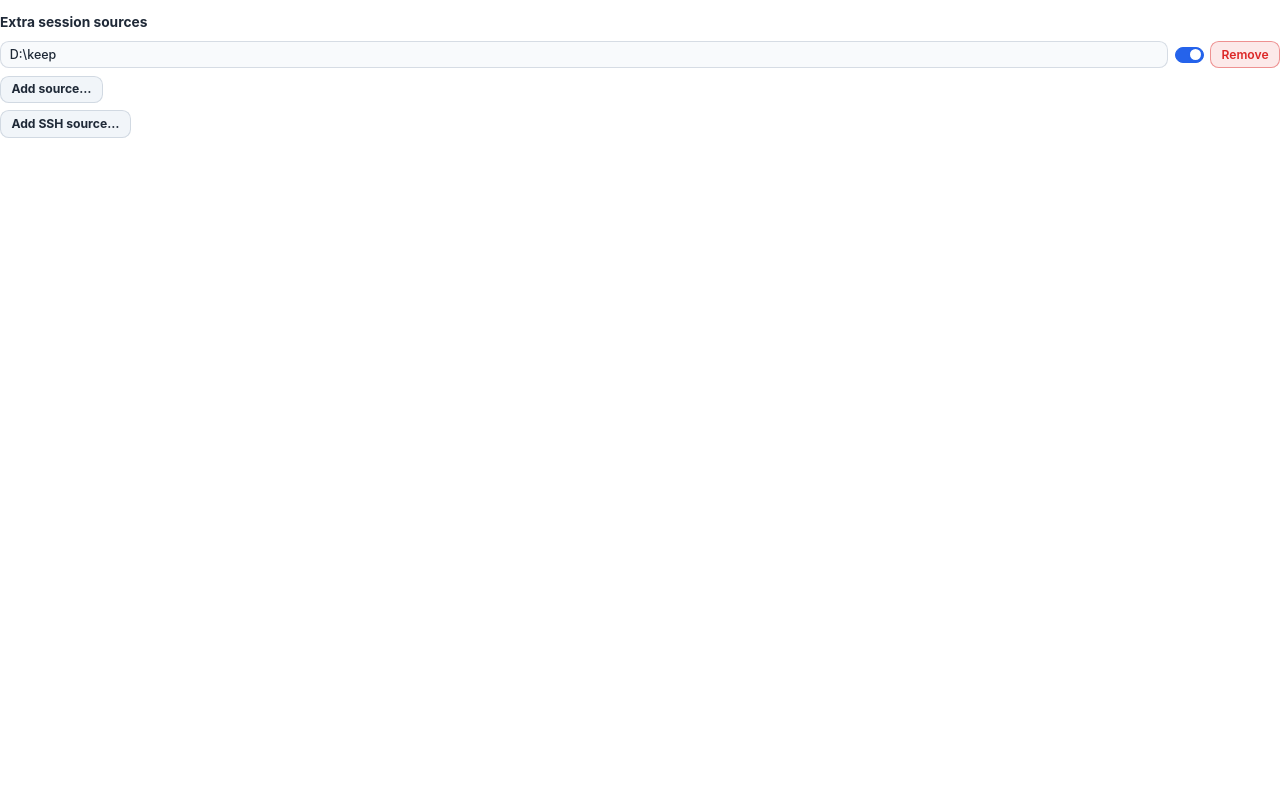
Test: SourcesEditor › keeps the row when the removal is cancelled
The image size is (1280, 800).
Click the button with aria-label "Remove source 1": (1245, 55) [1210, 41, 1279, 68]
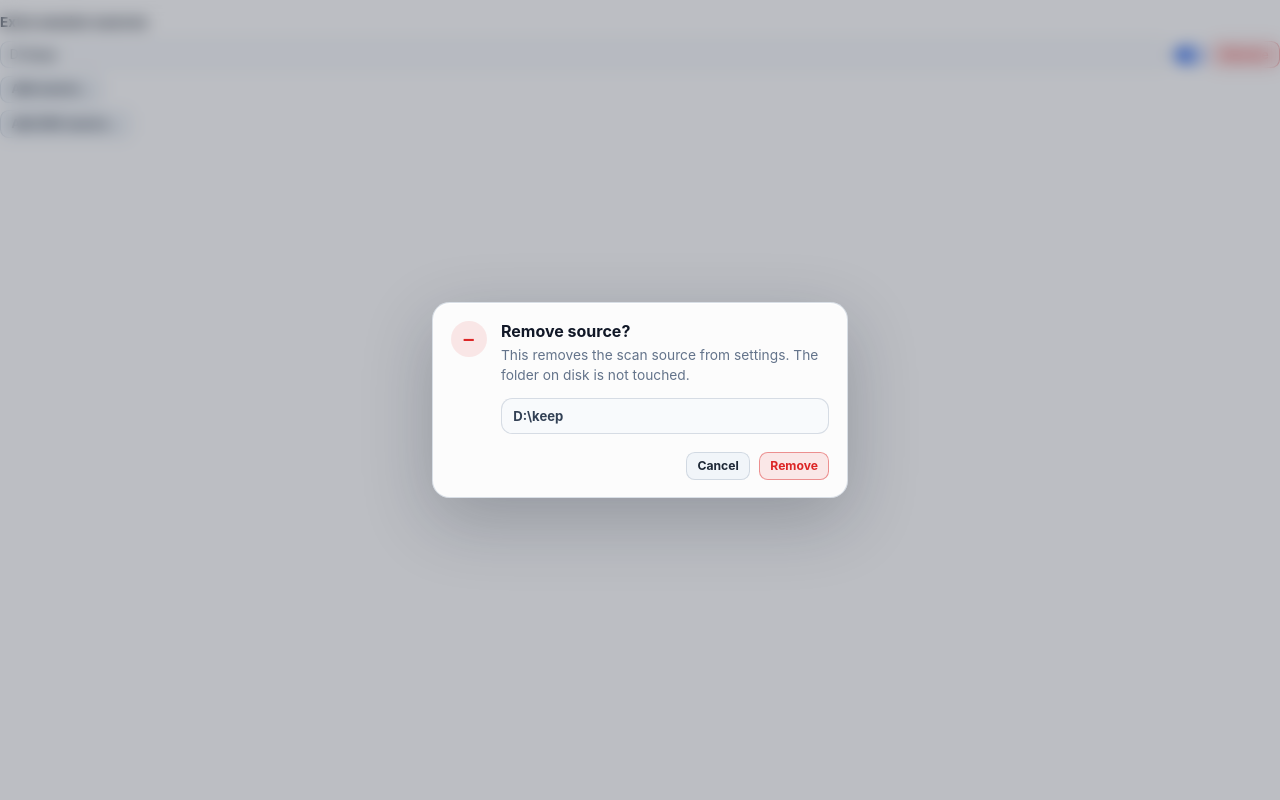
Click the button "Cancel": (718, 466) [686, 452, 750, 480]
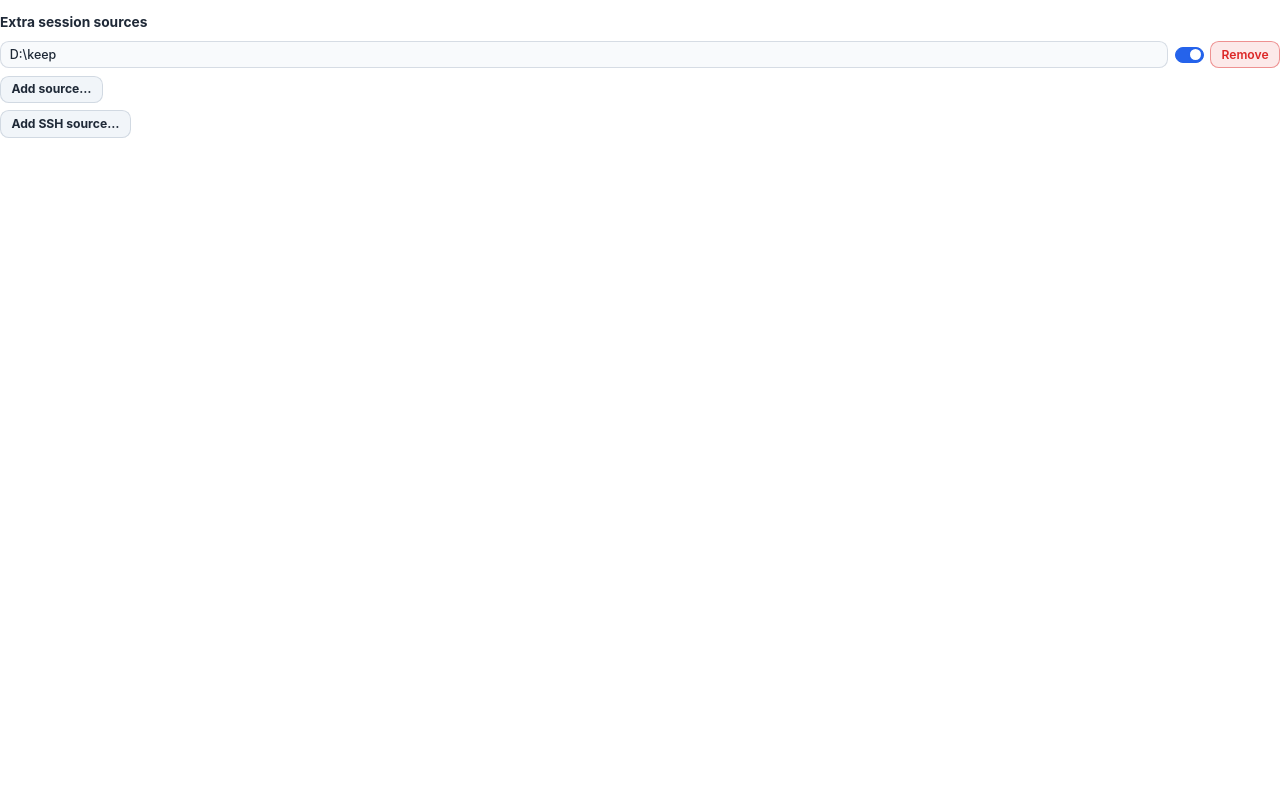
Result: the dialog is gone
